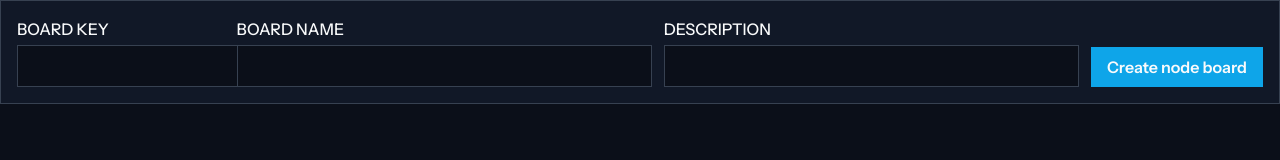
CreateNodeBoardForm › renders a fallback error when creation throws
In the field labelled "Board key": (133, 66) [17, 45, 249, 87], type "MAIN"
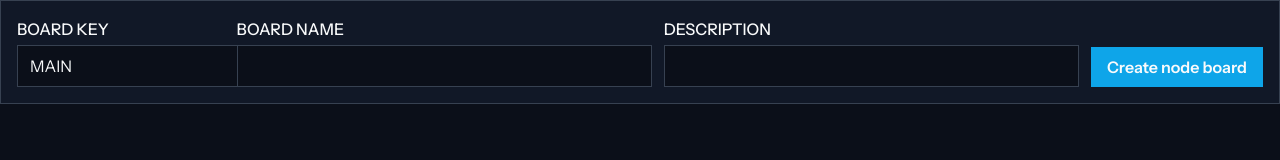
In the field labelled "Board name": (444, 66) [237, 45, 652, 87], type "Main board"
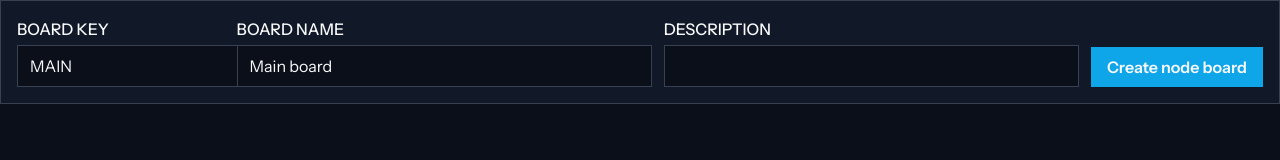
Click the button "Create node board": (1177, 67) [1091, 47, 1263, 87]
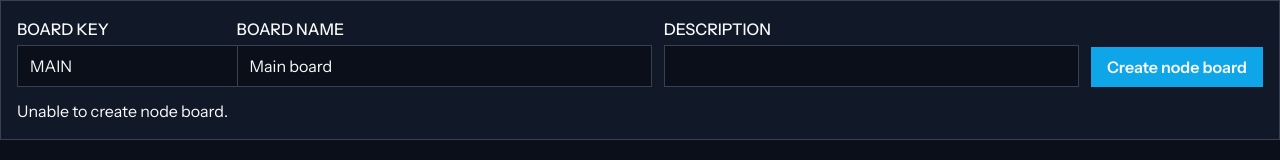
expect the text "Unable to create node board." is shown: met, box [17, 101, 228, 121]
